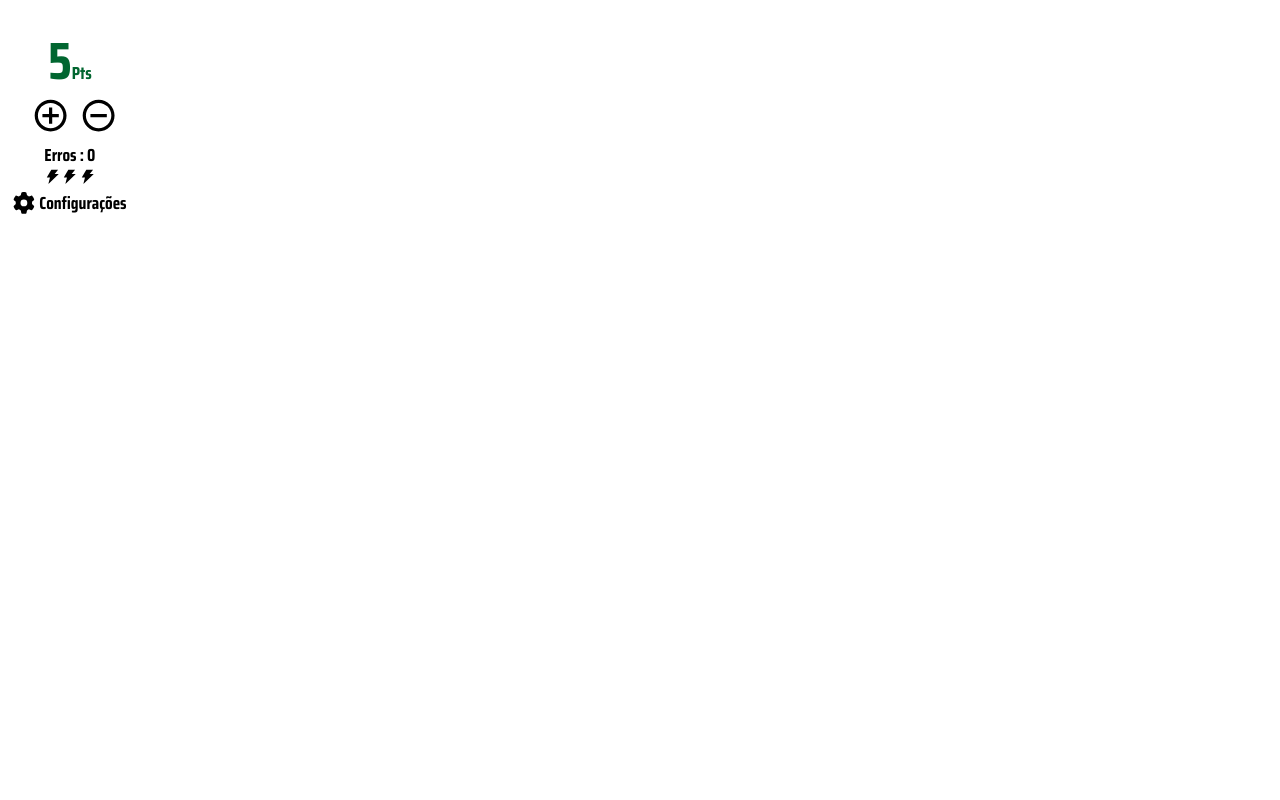
Scenario: CountCard Config › deve exibir texto Bom quando comportamento = 4
What coordinates should you click on to do the following:
click the text "Configurações"
I would click on:
 (70, 203)
Its box is [13,189,127,217].
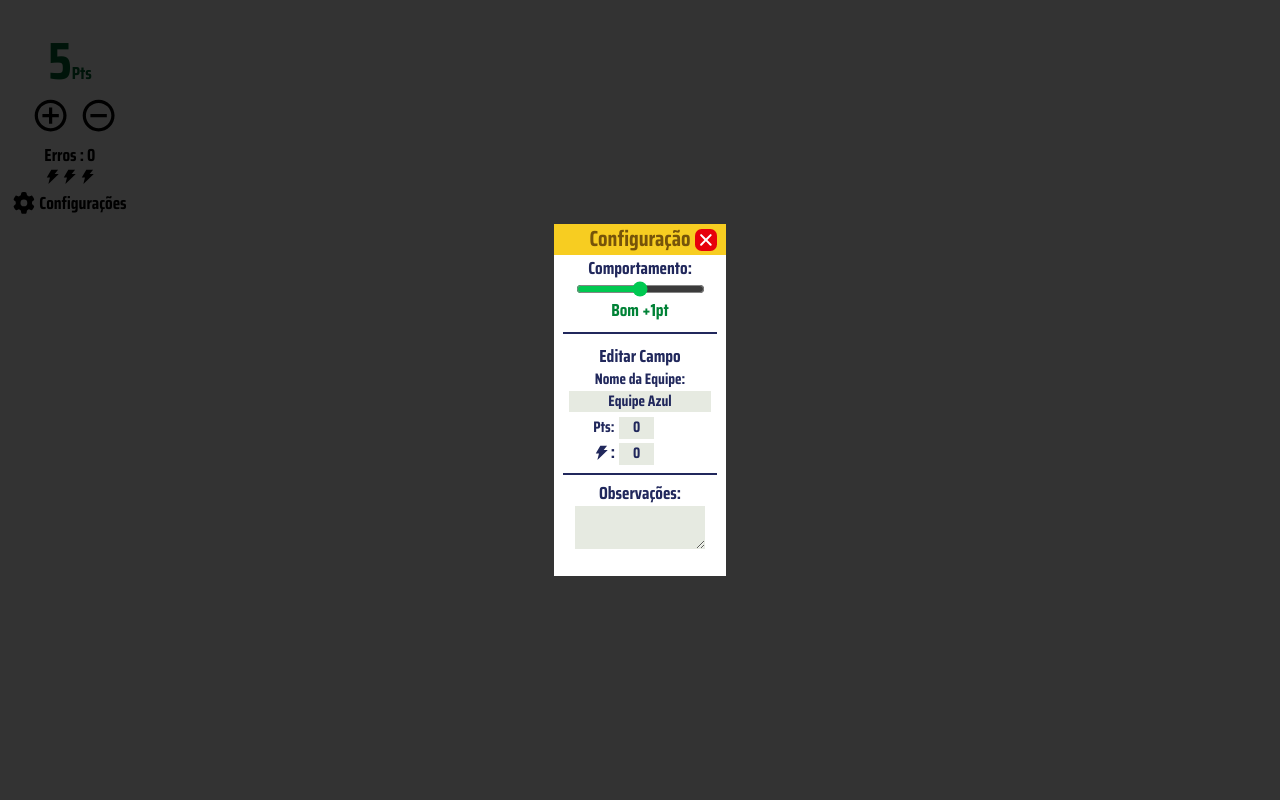
Expected: the text "Bom +1pt" is shown, [611,297,669,323]
